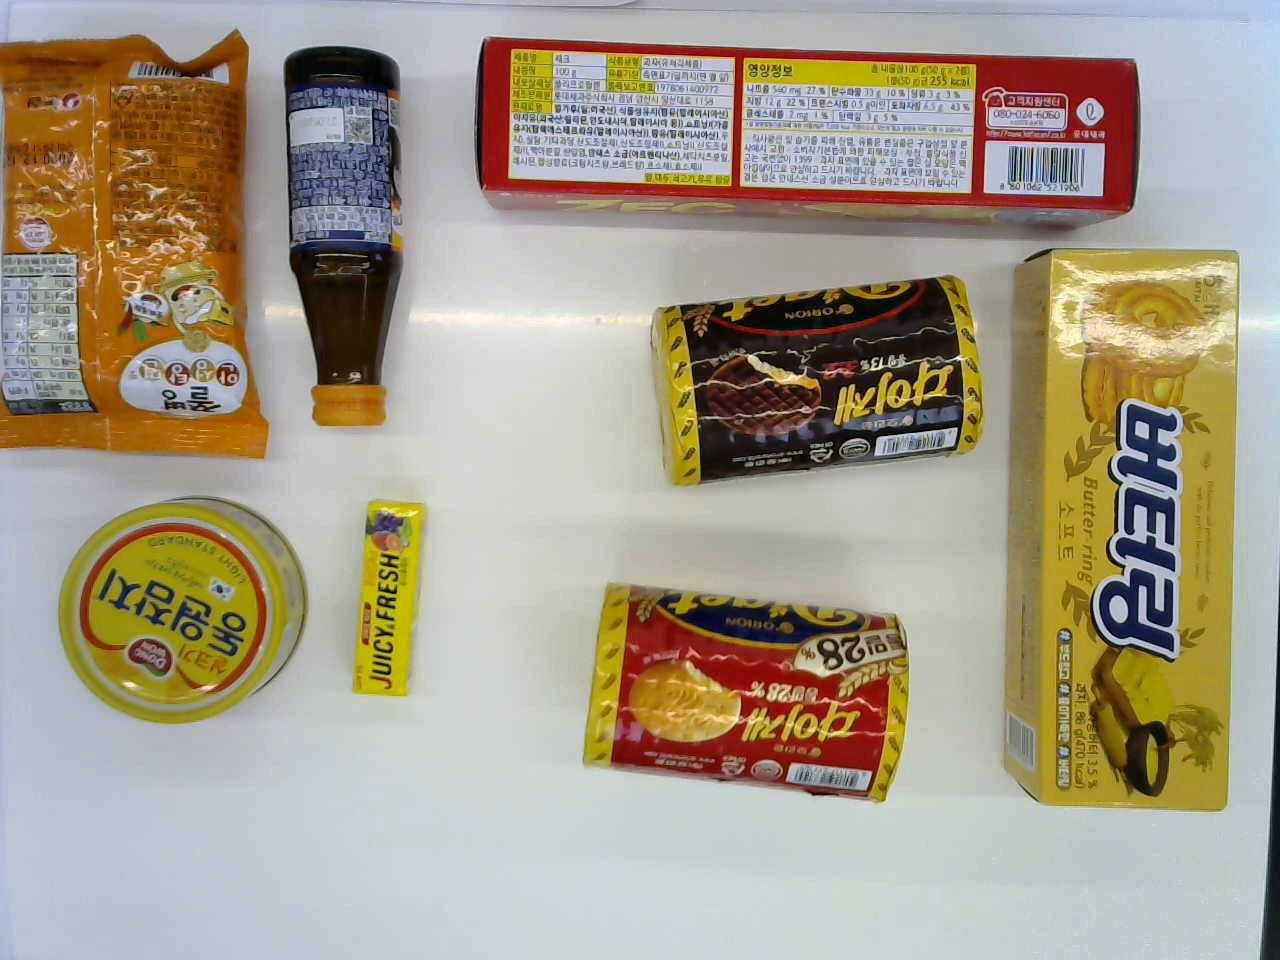buttering: (1006, 232, 1243, 821)
diget_choco: (645, 273, 977, 497)
diget_ori: (584, 575, 918, 812)
jjolbyung_noodle: (0, 20, 266, 459)
juicyfresh: (344, 482, 429, 703)
tuna: (53, 489, 311, 722)
vita500: (277, 43, 406, 428)
zec: (470, 35, 1150, 226)
